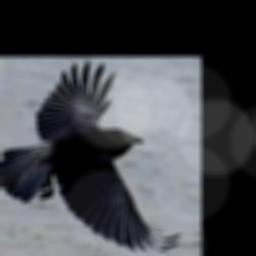Crow: (0, 61, 182, 253)
